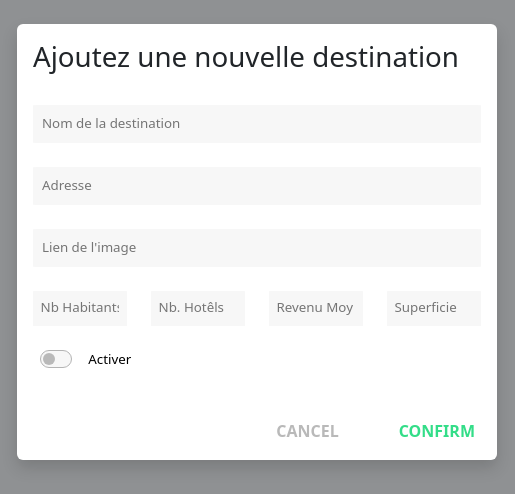
Test: form › invalid form submit
In the field with placeholder "Nom de la destination": point(257, 124) [33, 105, 481, 143], type "Berlin"
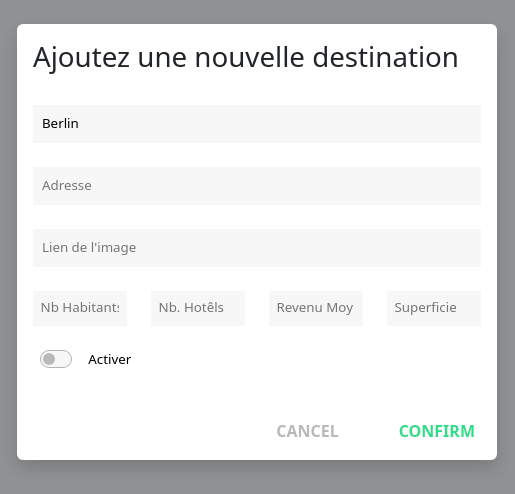
Click the button "CONFIRM": point(437, 431) [393, 418, 481, 444]
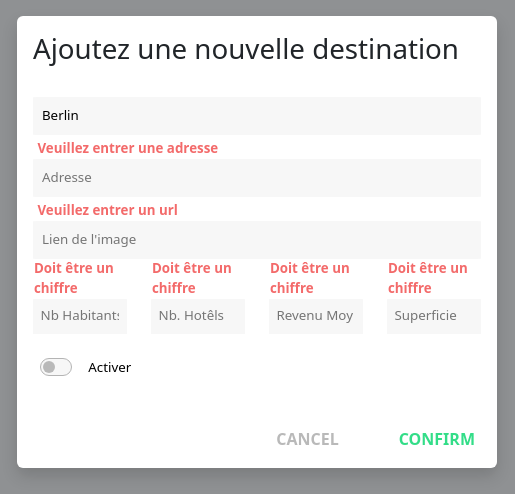
Result: the text "Veuillez entrer une adresse" is shown at [38, 139, 218, 159]
